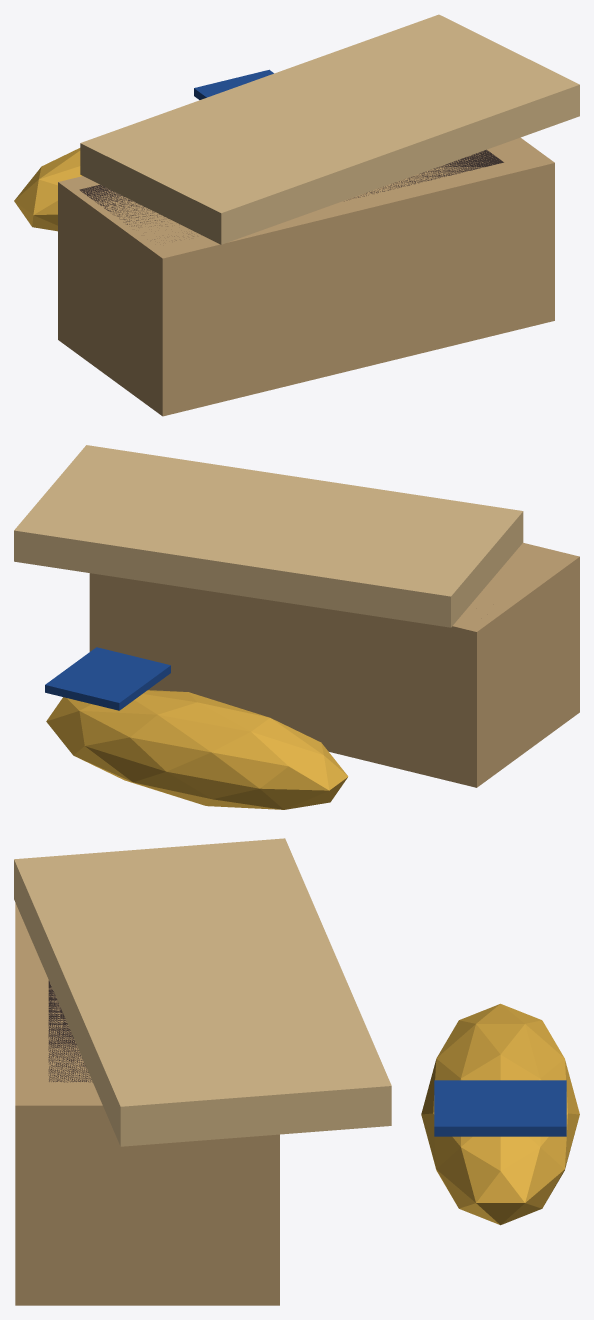
File: sarkofag.glb
3 views of the same model, one above another, from view 1: azimuth 30°, elevation 25°; view 2: azimuth 150°, elevation 25°; view 3: azimuth 270°, elevation 25° (orthographic). The views are drawn at different scales.
Parts seen in each view (by area): view 1: sarkofag; view 2: sarkofag; view 3: sarkofag.
Part boxes in pixels (bbox=[...]): sarkofag: bbox=[14, 14, 579, 416]; sarkofag: bbox=[14, 445, 579, 809]; sarkofag: bbox=[14, 838, 579, 1305].
Size of the model in its own units: 3.04 by 1.2 by 2.57.
